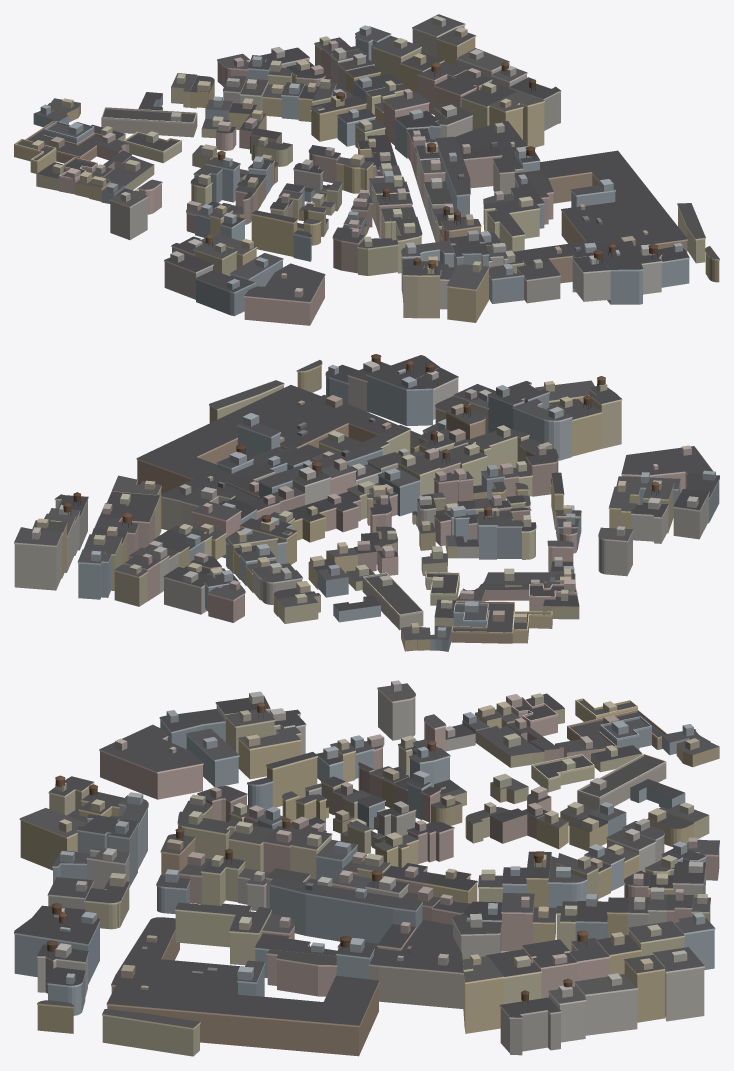
File: 0_4.bld.glb
3 renders of one model, top to bottom at view 1: azimuth 30°, elevation 25°; view 2: azimuth 150°, elevation 25°; view 3: azimuth 270°, elevation 25°, orthographic. The views are drawn at different scales.
Visible parts, largest first — view 1: 0_4; view 2: 0_4; view 3: 0_4.
Boxes of the visible parts, x1,y1,x2,y2 form: 0_4: (14,14,719,325); 0_4: (14,354,719,651); 0_4: (14,680,719,1056).
Bounding box in the file's own units: 271 × 47.22 × 279.
